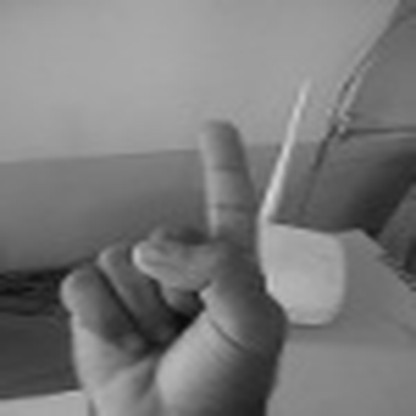d: (53, 113, 285, 412)
